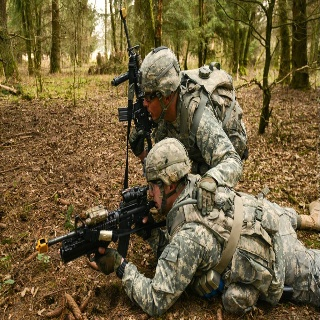rifle: (34, 184, 167, 267), (111, 8, 160, 158)
